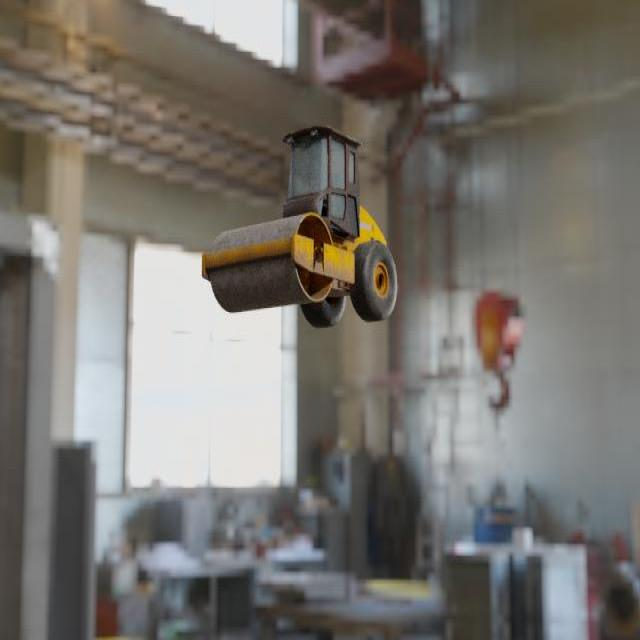Roller: (200, 124, 397, 328)
